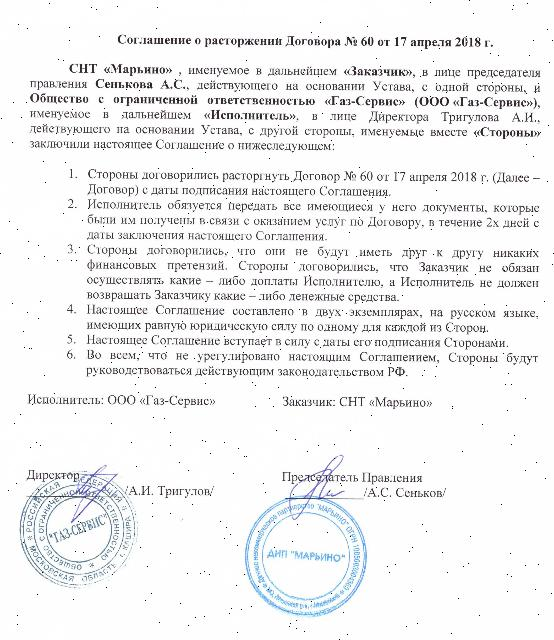stamp: (243, 495, 369, 617), (21, 470, 135, 590)
